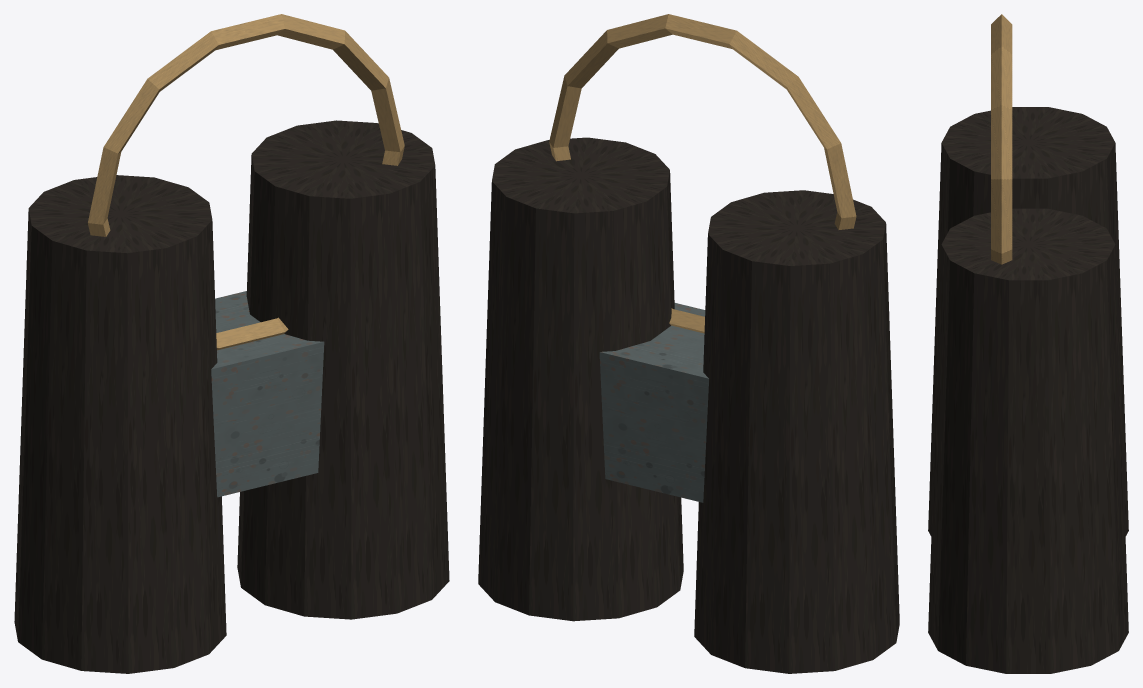
The model's file is ax-tool-005_binoculars__clean.obj.
3 views of the same model, side by side, from view 1: azimuth 30°, elevation 25°; view 2: azimuth 150°, elevation 25°; view 3: azimuth 270°, elevation 25° (orthographic). The views are drawn at different scales.
Visible parts, largest first — view 1: ax-tool-005_binoculars__clean; view 2: ax-tool-005_binoculars__clean; view 3: ax-tool-005_binoculars__clean.
Part boxes in pixels (left/top/right/bottom): ax-tool-005_binoculars__clean: left=14, top=14, right=449, bottom=673; ax-tool-005_binoculars__clean: left=478, top=14, right=899, bottom=673; ax-tool-005_binoculars__clean: left=928, top=14, right=1128, bottom=673.
Bounding box in the file's own units: 0.3262 × 0.4548 × 0.15.
3 materials, 3 textured.
